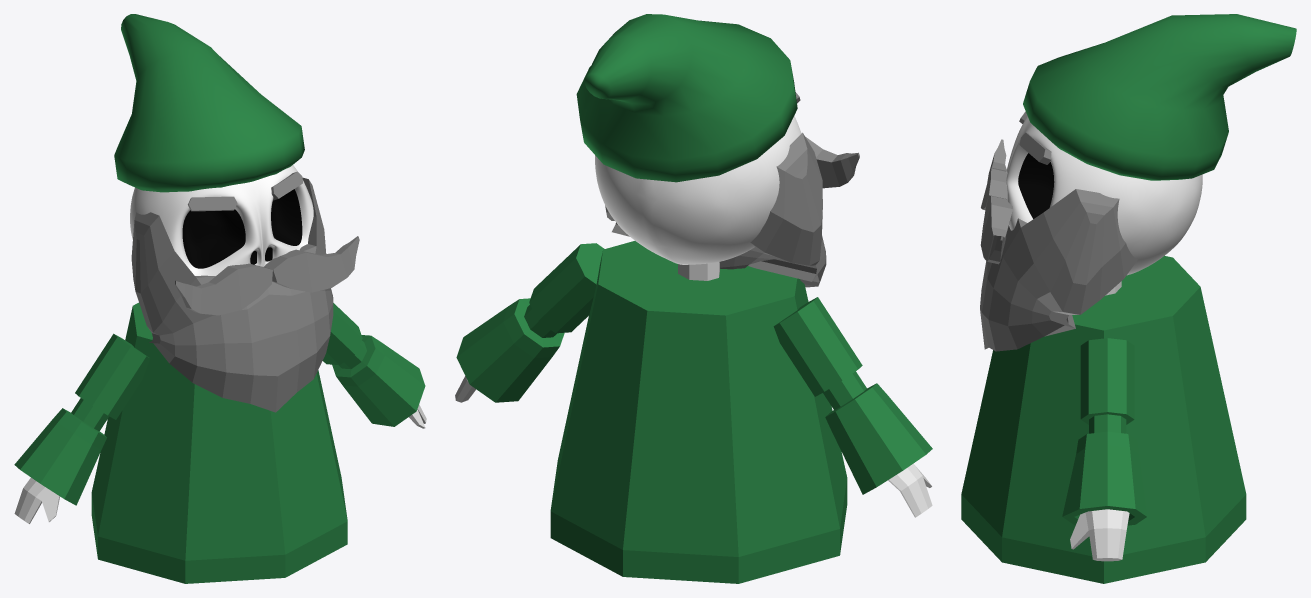
The model's file is wizard.fbx.
3 views of the same model, side by side, from view 1: azimuth 30°, elevation 25°; view 2: azimuth 150°, elevation 25°; view 3: azimuth 270°, elevation 25° (orthographic). The views are drawn at different scales.
Parts seen in each view (by area): view 1: Cylinder.002, Cylinder, Cube.001, Icosphere, Cube.005, Cube.003; view 2: Cylinder.002, Cylinder, Icosphere, Cube.001, Cube.005; view 3: Cylinder.002, Cylinder, Cube.001, Icosphere, Cube.005, Cube.004.
Part boxes in pixels (x1,y1,x2,y2): Cylinder.002: [14, 302, 426, 583]; Cylinder: [114, 14, 304, 192]; Cube.001: [131, 177, 333, 412]; Icosphere: [130, 165, 313, 275]; Cube.005: [175, 236, 359, 315]; Cube.003: [188, 196, 237, 211]; Cylinder.002: [455, 241, 932, 583]; Cylinder: [576, 14, 797, 182]; Icosphere: [595, 116, 801, 264]; Cube.001: [605, 132, 826, 287]; Cube.005: [805, 136, 859, 188]; Cylinder.002: [961, 255, 1246, 583]; Cylinder: [1023, 14, 1296, 180]; Cube.001: [980, 189, 1137, 351]; Icosphere: [1006, 116, 1202, 275]; Cube.005: [980, 139, 1012, 264]; Cube.004: [1019, 132, 1051, 164].
Size of the model in its own units: 735 by 802 by 485.
